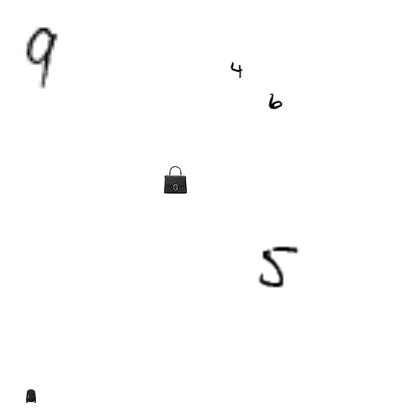0: (156, 64, 240, 148)
5: (63, 135, 85, 157)
8: (371, 171, 413, 213)
9: (368, 340, 390, 362)
Coat: (361, 114, 403, 156)
Sandal: (230, 372, 244, 386)
